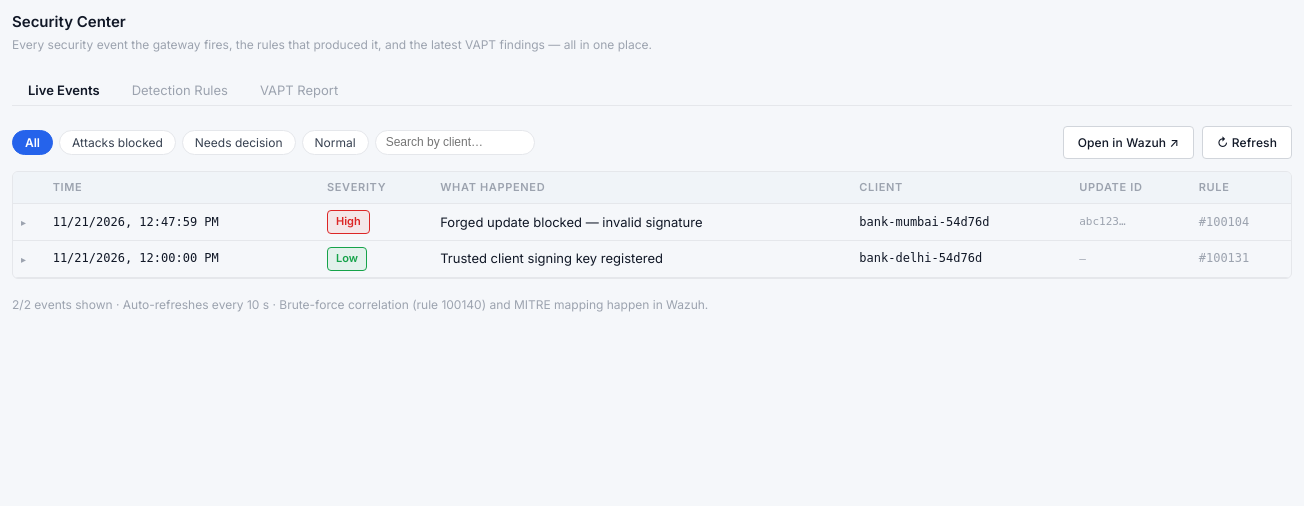
Scenario: SecurityCenter — tab rendering › VAPT Report tab renders summary on click
Click the button "VAPT Report".
click(299, 89)  # box [244,74,354,105]
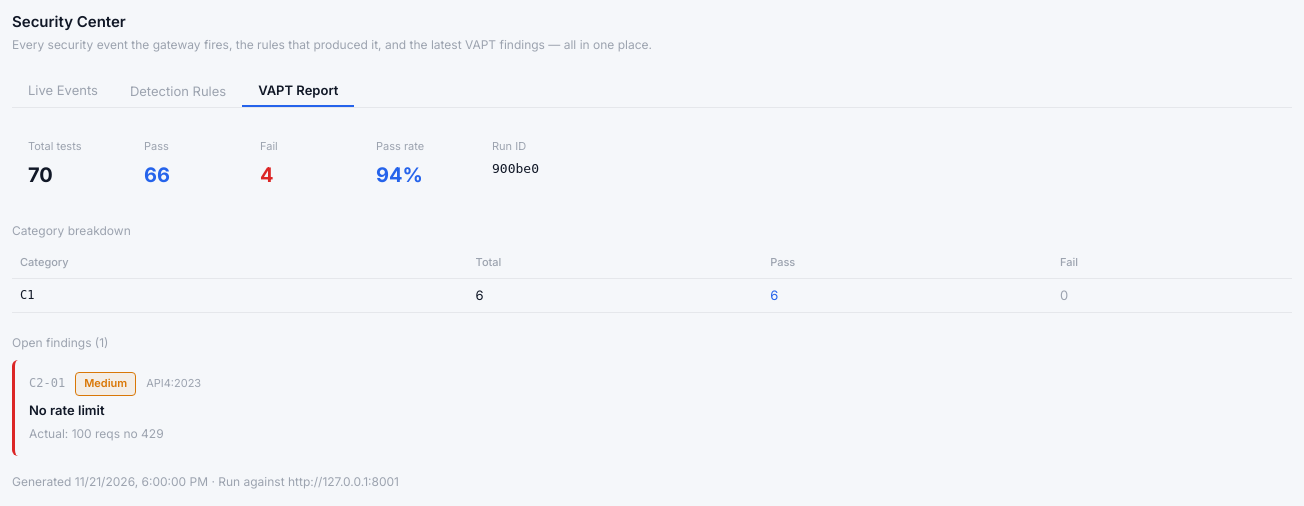
Expected: the text "70" is shown, [28,163,53,187]
Expected: the text "66" is shown, [144,163,170,187]
Expected: the text "900be0" is shown, [492,161,539,176]
